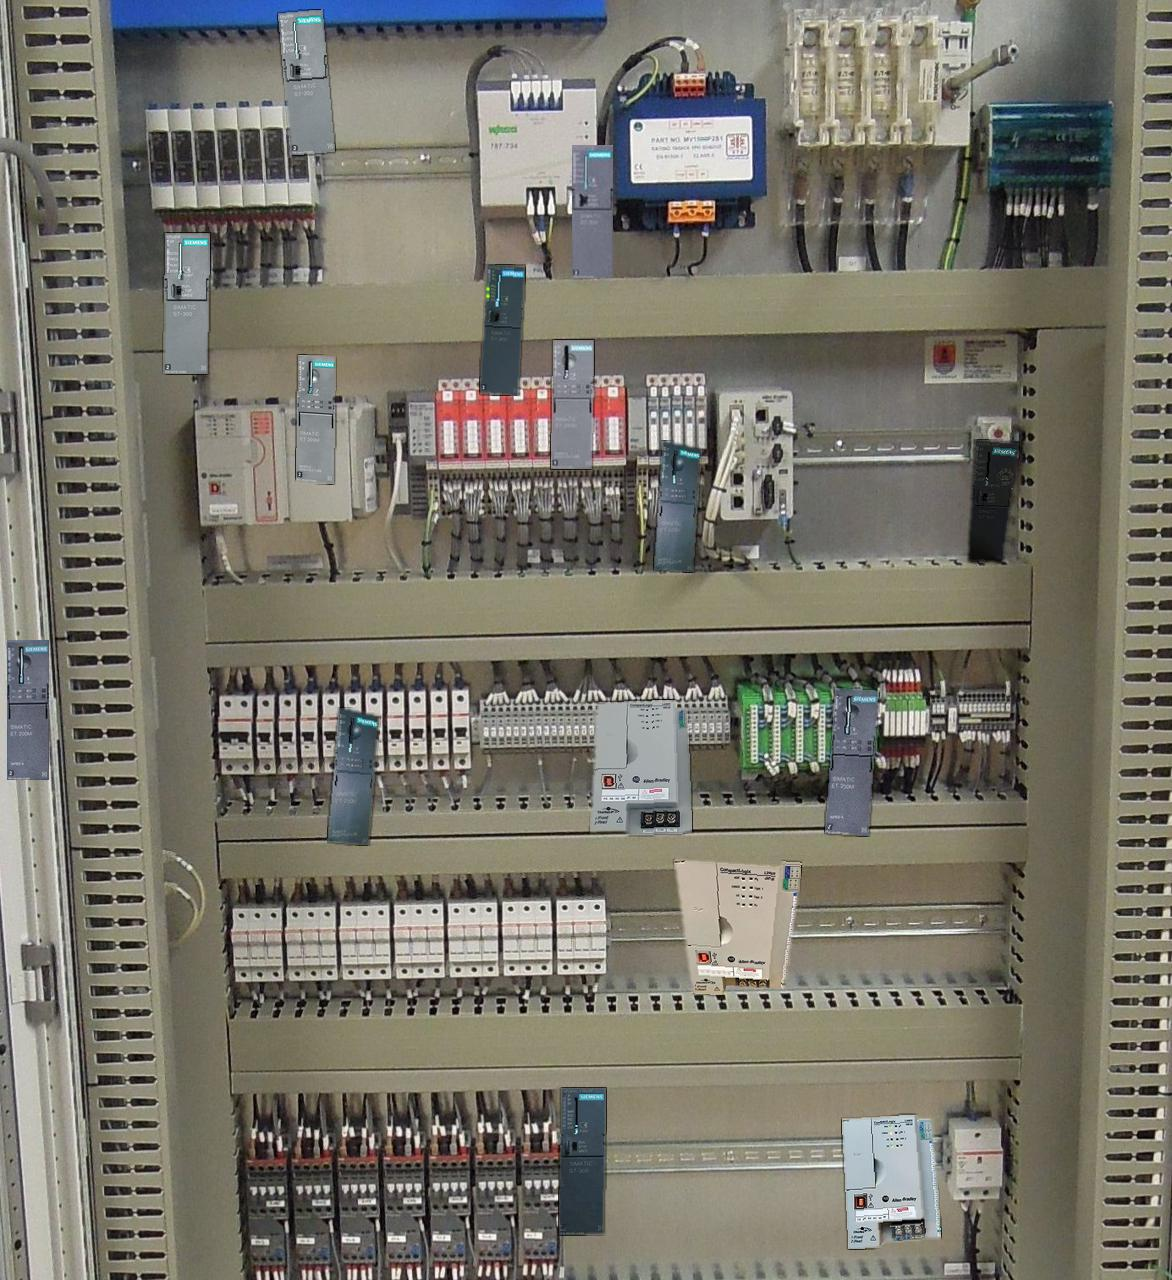AllenBradley: (674, 860, 801, 993), (590, 700, 691, 834), (842, 1115, 940, 1248)
Siemens: (278, 9, 335, 154), (559, 1088, 606, 1234), (164, 233, 209, 374), (968, 439, 1018, 562), (480, 264, 524, 395), (572, 145, 612, 277)
